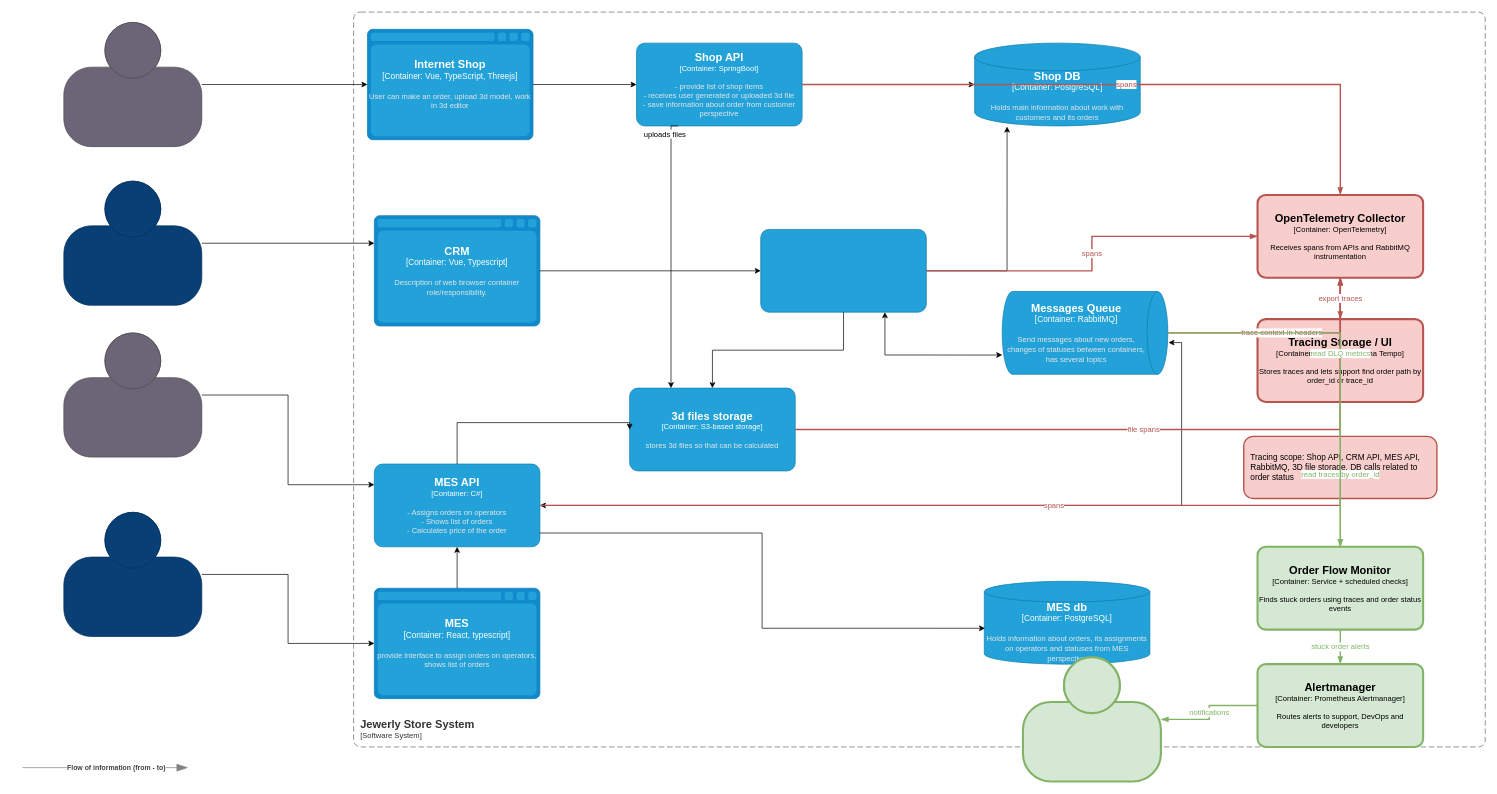
Some shapes in this 1497 by 794 pixel diagram are drawn without their labels. Each missing label, with the box of its shape:
API user [Person] Description of external person.: (63, 332, 202, 457)
CRM API [Container: SpringBoot] Description of container role/responsibility.: (760, 229, 926, 312)
Customer [Person] Description of external person.: (63, 22, 202, 147)
Operator [Person] Takes order in work, manufactures jewerly: (63, 512, 202, 637)
Seller [Person] Operates with order, confirms manufacturing for the user: (63, 180, 202, 305)
Support / Admin [Person] Receives alerts and starts order recovery runbook: (1022, 656, 1162, 782)
